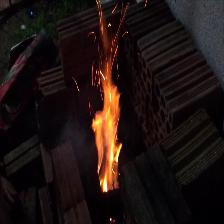fire: (59, 16, 149, 212)
